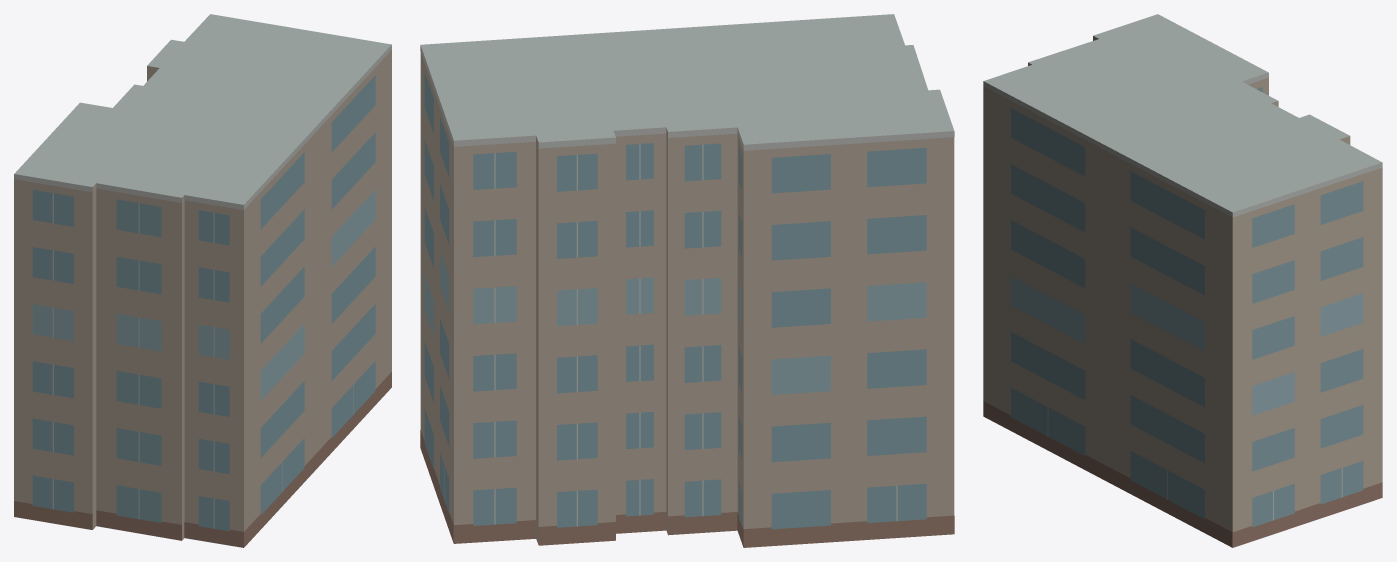
The model's file is survey-upis-32740697.glb.
3 renders of one model, left to right at view 1: azimuth 30°, elevation 25°; view 2: azimuth 150°, elevation 25°; view 3: azimuth 270°, elevation 25°, orthographic. The views are drawn at different scales.
Parts seen in each view (by area): view 1: survey-upis-32740697.tmp; view 2: survey-upis-32740697.tmp; view 3: survey-upis-32740697.tmp.
Part boxes in pixels (x1=…): survey-upis-32740697.tmp: x1=14, y1=14, x2=391, y2=547; survey-upis-32740697.tmp: x1=420, y1=14, x2=954, y2=547; survey-upis-32740697.tmp: x1=983, y1=14, x2=1382, y2=547.
Size of the model in its own units: 20.45 by 16.1 by 17.37.
